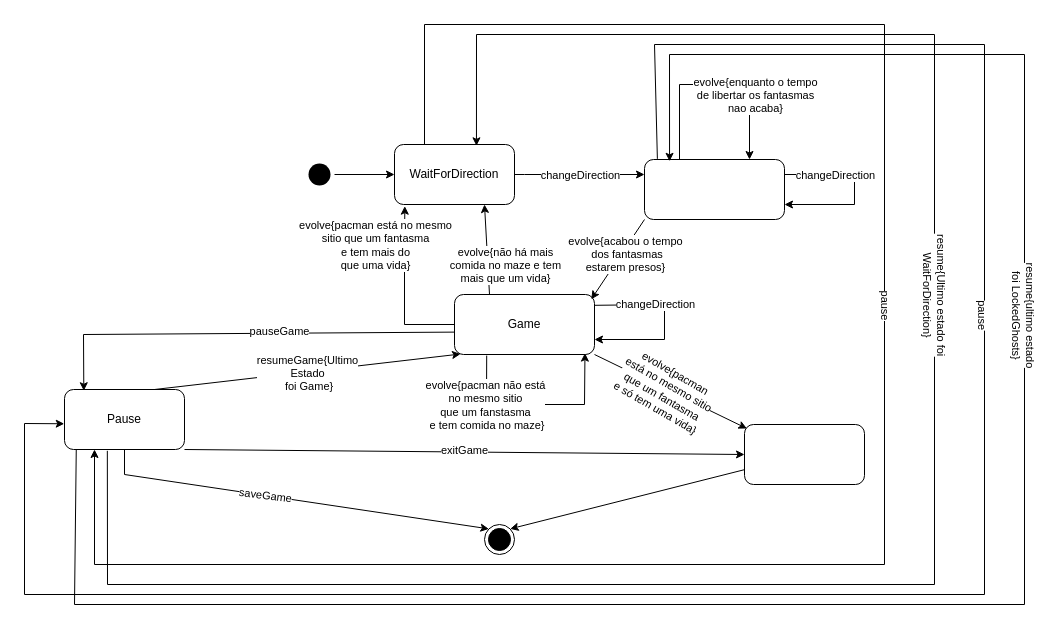
Image size: 1055x630. Some labels were removed from this diagram. The shapes that lost their labels are listed below. From the top down, each one's centre as x and y in pixels, then its label:
At [714,189]: "LockedGhosts".
At [804,454]: "GameOver".
